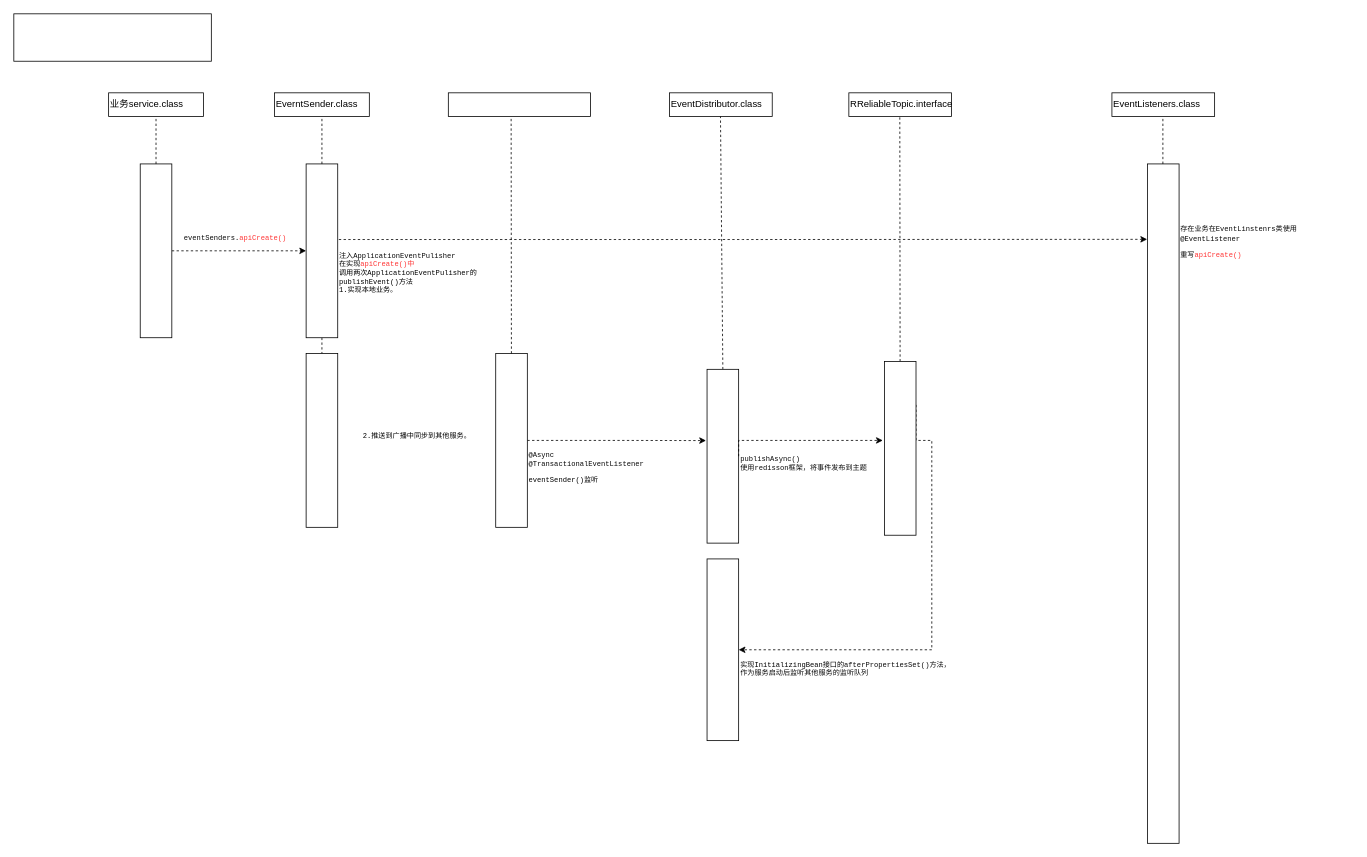
This 1367x857 diagram has some shape labels left out. The shapes that lost their labels are listed below. From the top down, each one's box as (x1, y1, x2, y2) in pixels, then its label:
(13, 13, 211, 61): basic-system-platform工程中redisson的使用
(448, 92, 591, 117): ApplicationEventPublisher.interface
